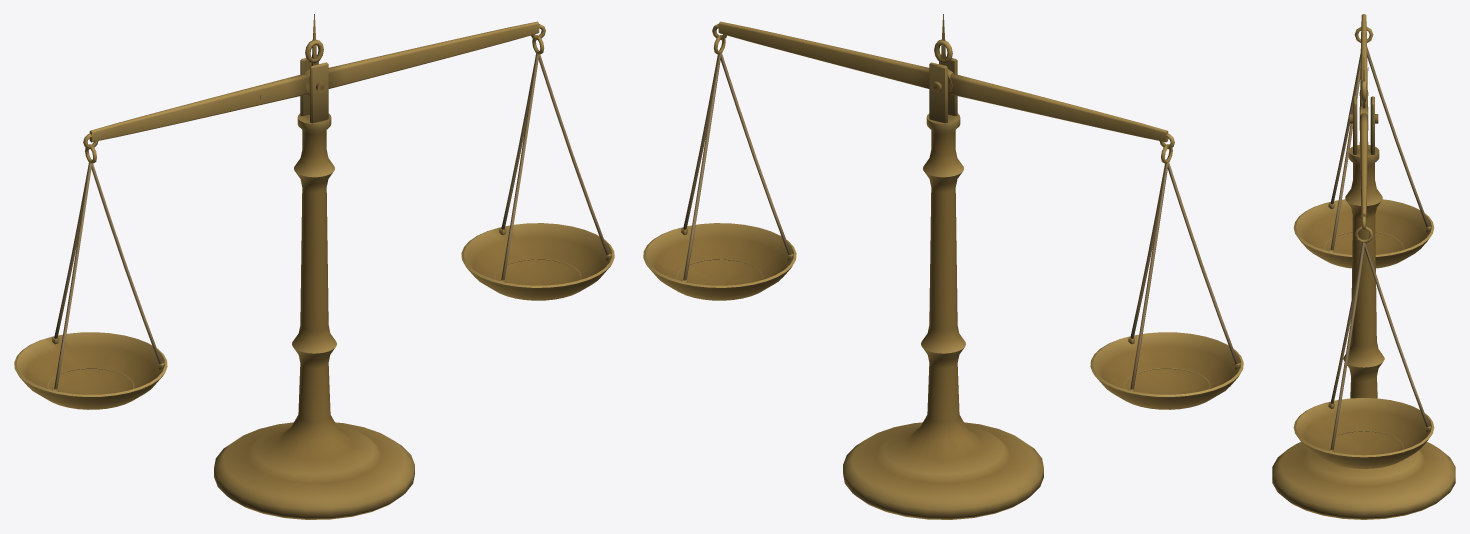
File: balance.cf300ff2.glb
3 renders of one model, left to right at view 1: azimuth 30°, elevation 25°; view 2: azimuth 150°, elevation 25°; view 3: azimuth 270°, elevation 25°, orthographic. The views are drawn at different scales.
Visible parts, largest first — view 1: balance, pan_l, pan_r, beam; view 2: balance, pan_l, pan_r, beam; view 3: balance, pan_r, pan_l, beam.
Part boxes in pixels (<box>): balance: <box>214,40,414,519</box>; pan_l: <box>14,144,167,409</box>; pan_r: <box>461,35,614,300</box>; beam: <box>83,14,545,149</box>; balance: <box>843,39,1043,519</box>; pan_l: <box>1090,144,1243,409</box>; pan_r: <box>643,35,796,300</box>; beam: <box>712,14,1174,149</box>; balance: <box>1272,80,1455,519</box>; pan_r: <box>1293,226,1434,468</box>; pan_l: <box>1293,27,1434,268</box>; beam: <box>1359,14,1368,230</box>.
Size of the model in its own units: 0.519 by 0.398 by 0.1549.
